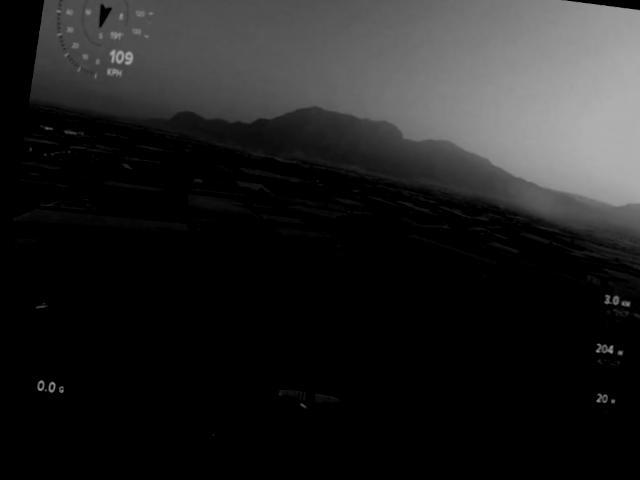hedef: (260, 367, 346, 439)
